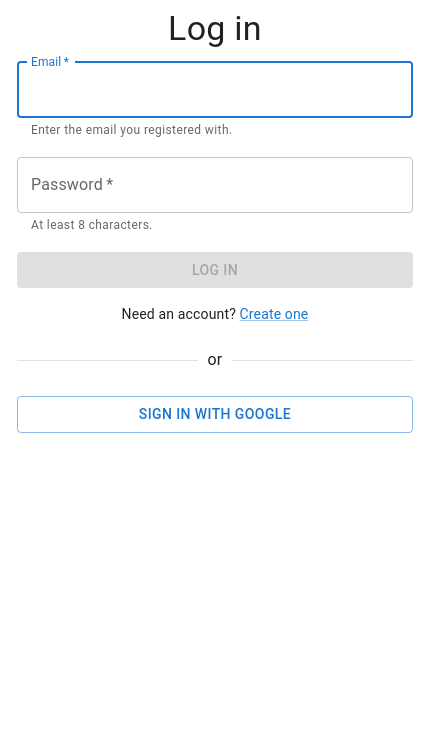
it: Login page › shows an error alert and does not navigate on INVALID_CREDENTIALS
Type "ada@example.com" into the field labelled "Email *". click: (215, 90)
box: [17,62,413,118]
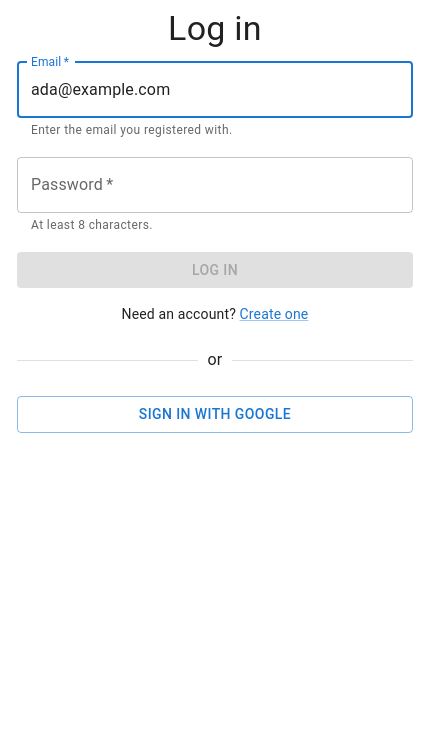
Type "hunter2hunter2" into the password field labelled "Password *". click: (215, 185)
box: [17,157,413,213]
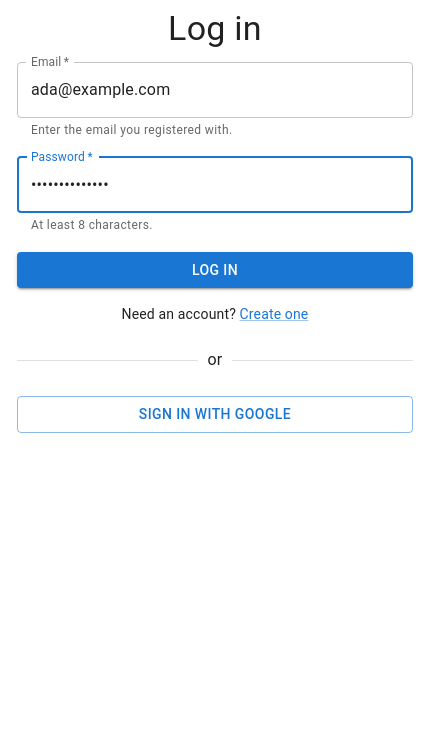
Click the button "Log in". click: (215, 270)
box: [17,252,413,288]
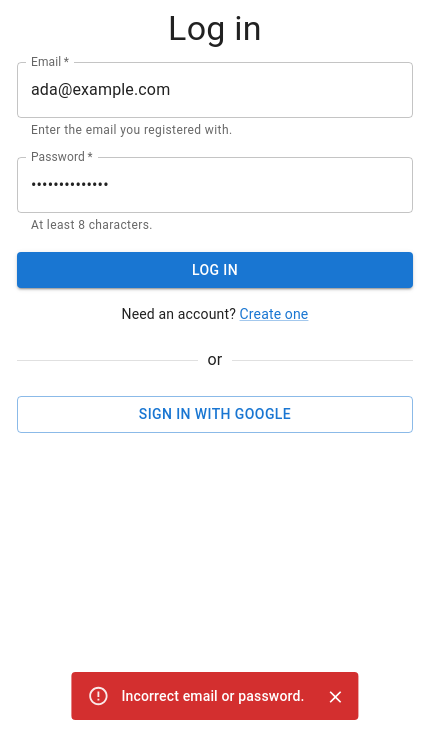
Result: the text "Incorrect email or password." is shown at [121,688,305,704]
